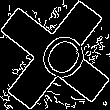O_SW: (22, 21, 88, 89)
